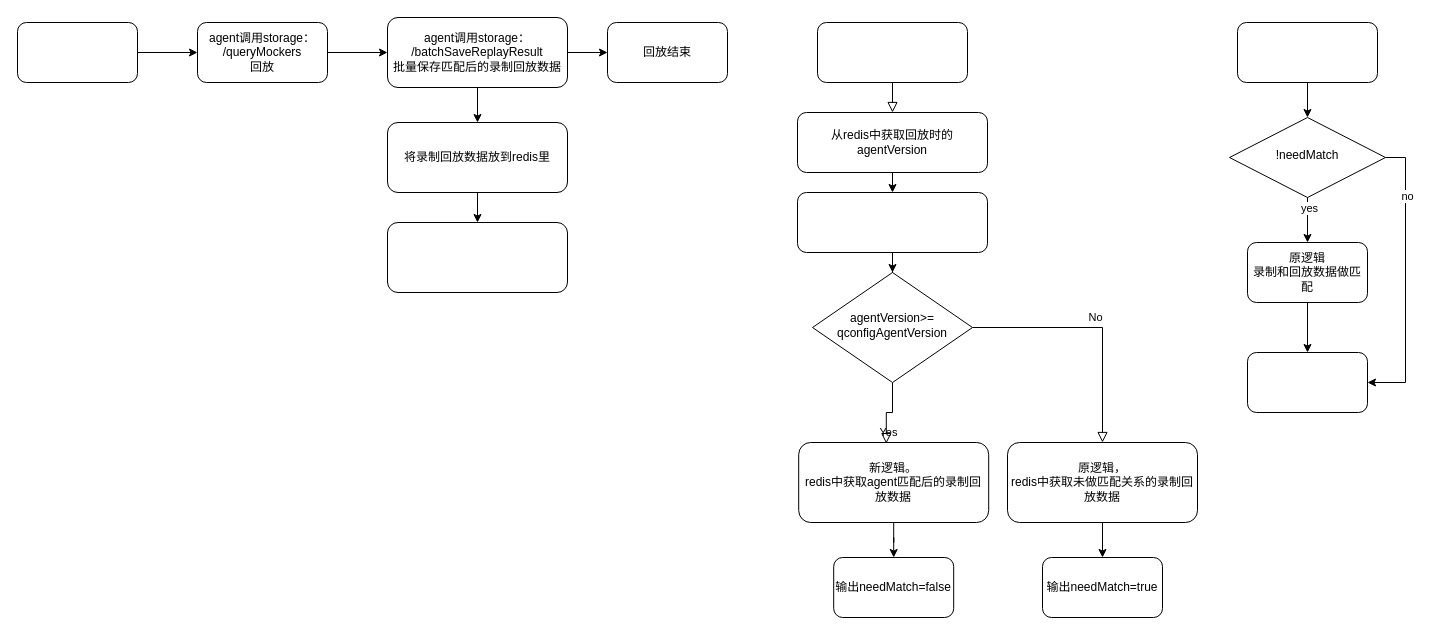
Some shapes in this 1431 by 635 pixel diagram are drawn without their labels. Each missing label, with the box of its shape:
/replayResult 获取录制回放数据: (816, 22, 968, 82)
compare: (1246, 352, 1368, 412)
qconfig中获取走新逻辑的agentVersion(configAgentVersion): (796, 192, 988, 252)
schedule做 compare: (1236, 22, 1378, 82)
schedule发起： send replay request: (16, 22, 138, 82)
将回放的agent version放到redis里: (386, 222, 568, 292)
